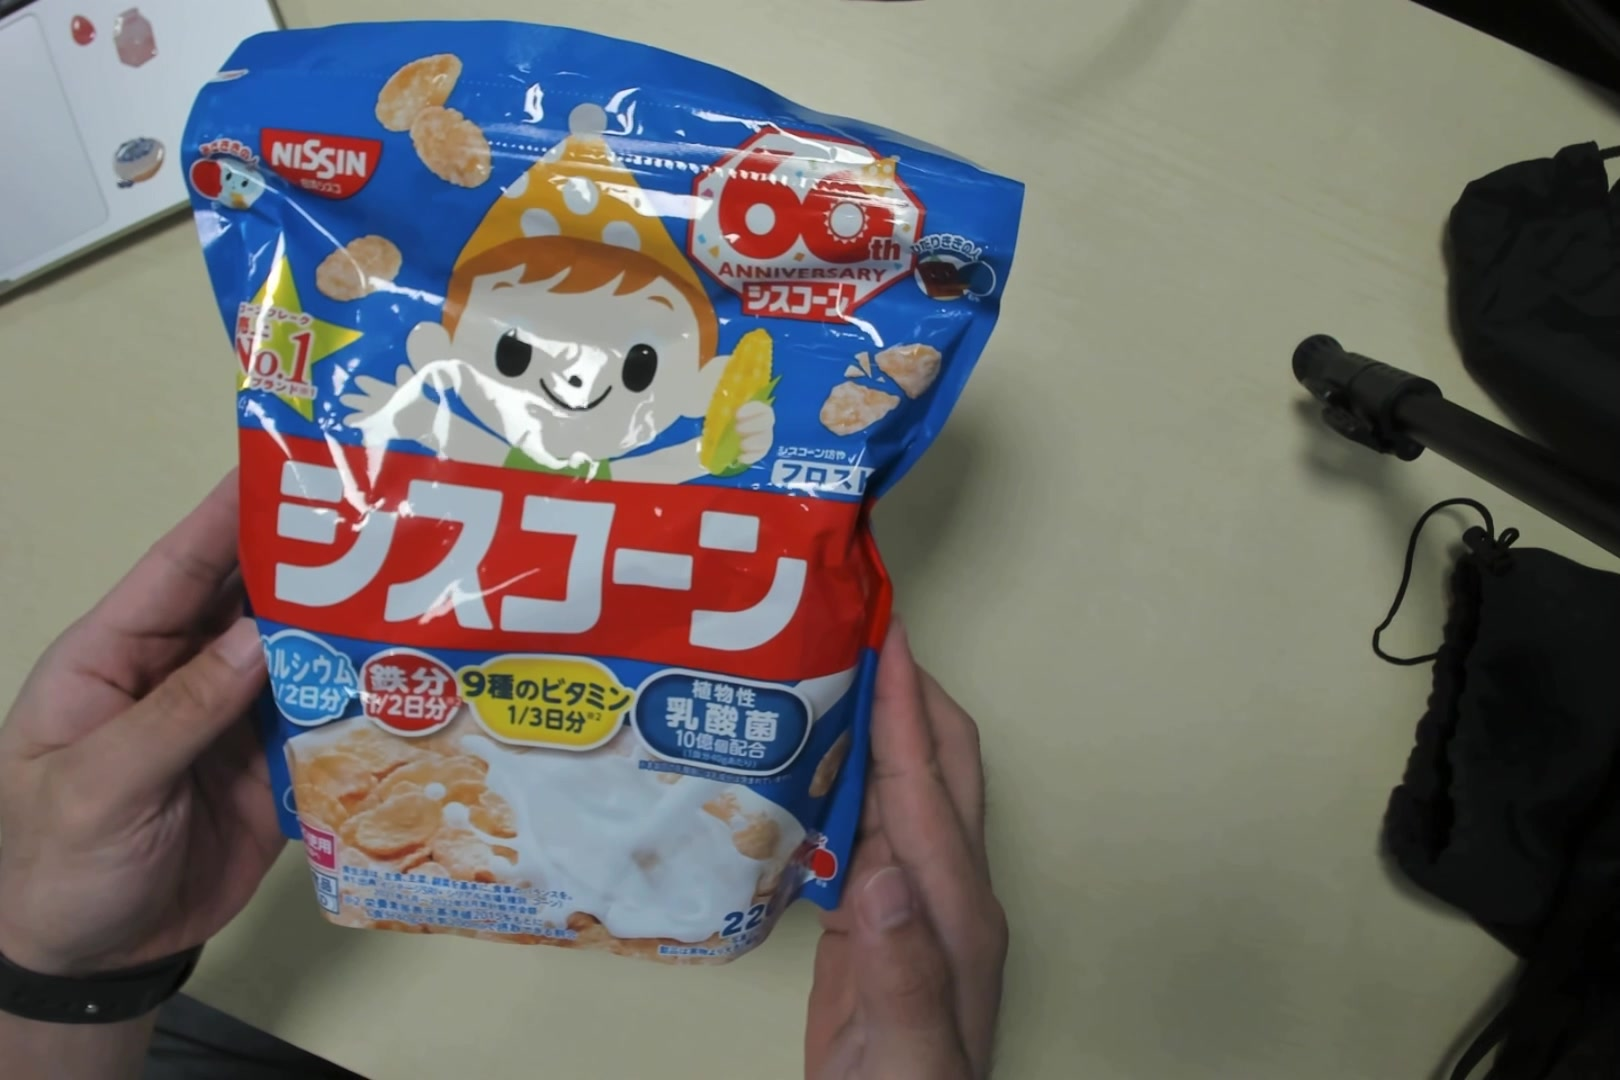BreakfastCereals_200-299g_NonHalal_NonHealthy: (193, 51, 990, 950)
